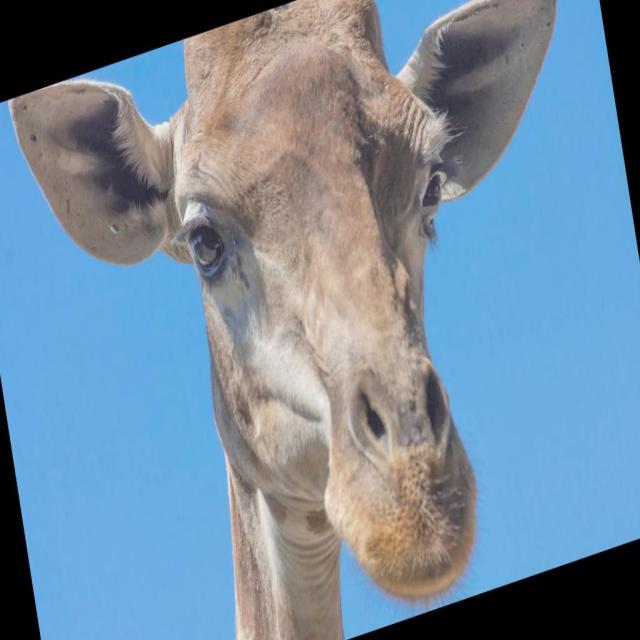Giraffe: (8, 2, 566, 640)
